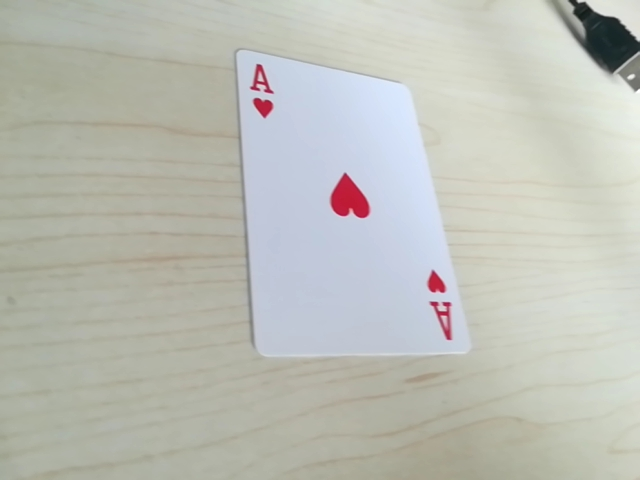hx a: (421, 265, 458, 342), (241, 56, 281, 125)
